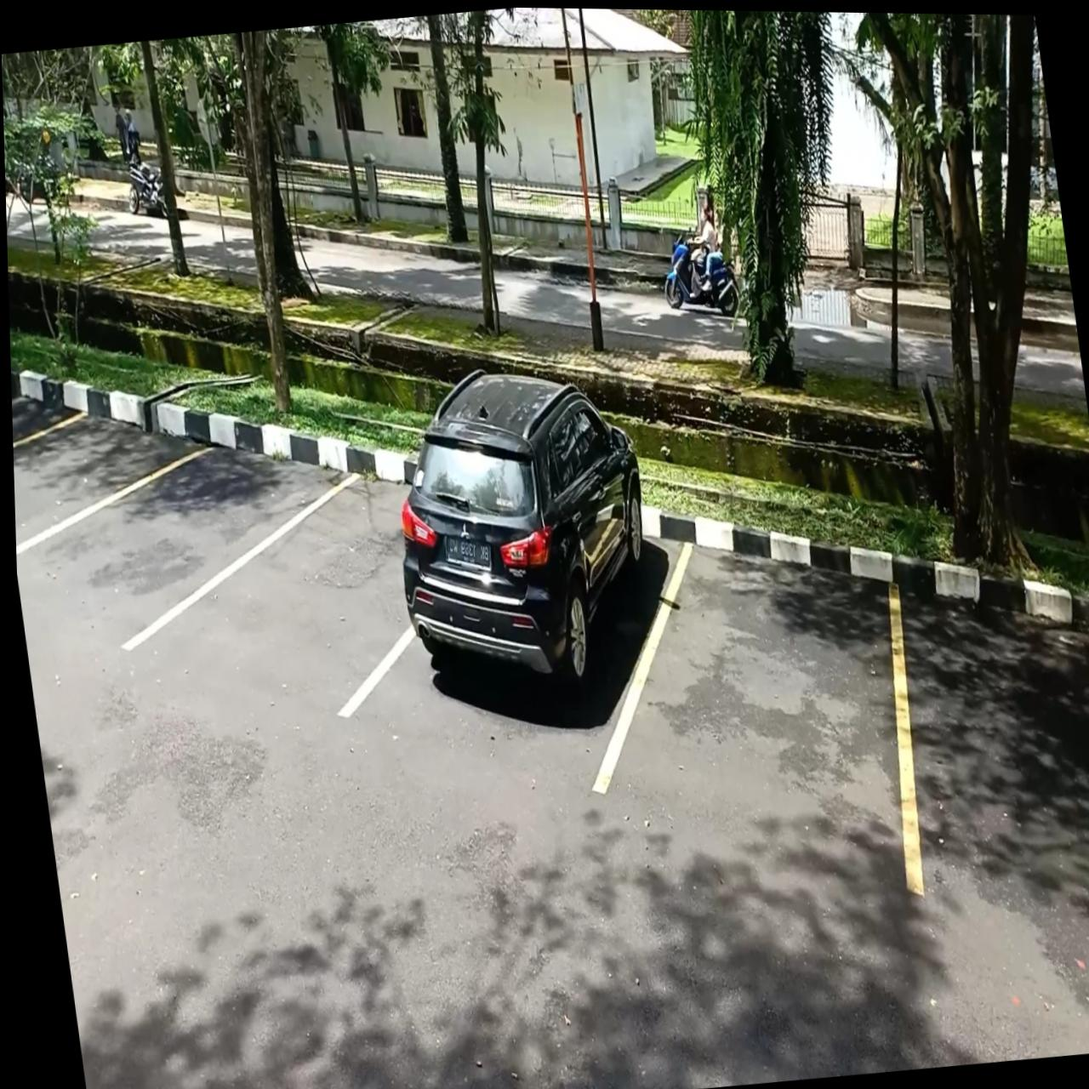cars: (344, 502, 693, 790)
empty: (599, 534, 914, 887), (128, 461, 516, 713), (16, 439, 364, 649), (13, 406, 228, 546)
